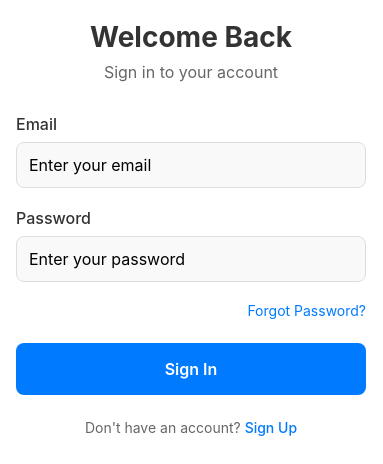
it: LoginScreen › Form Validation › should validate email format correctly
// Enter invalid email
Type "invalid-email" into the field with placeholder "Enter your email" at (191, 165), box [16,142,366,188]
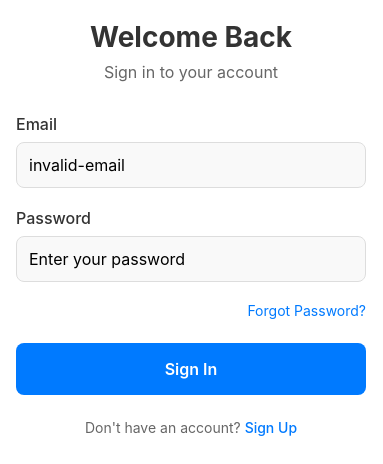
Type "password123" into the password field with placeholder "Enter your password" at (191, 259), box [16,236,366,282]
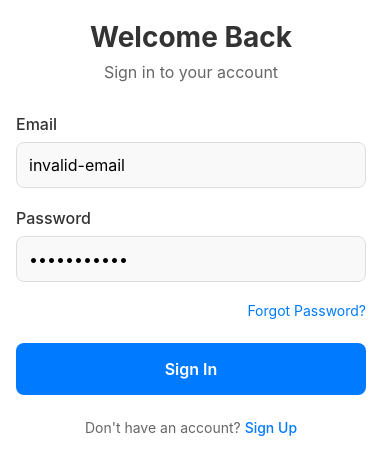
Click the text "Sign In" at (191, 369), box [165,359,217,379]
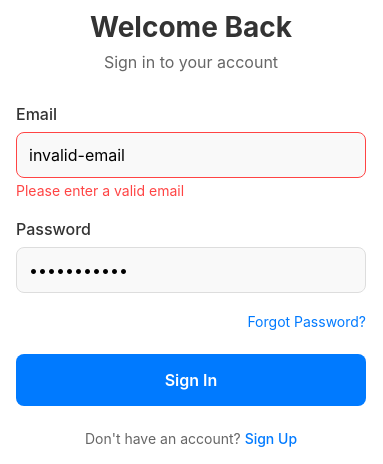
Check: the text "Please enter a valid email" is shown, box [16,182,184,198]
